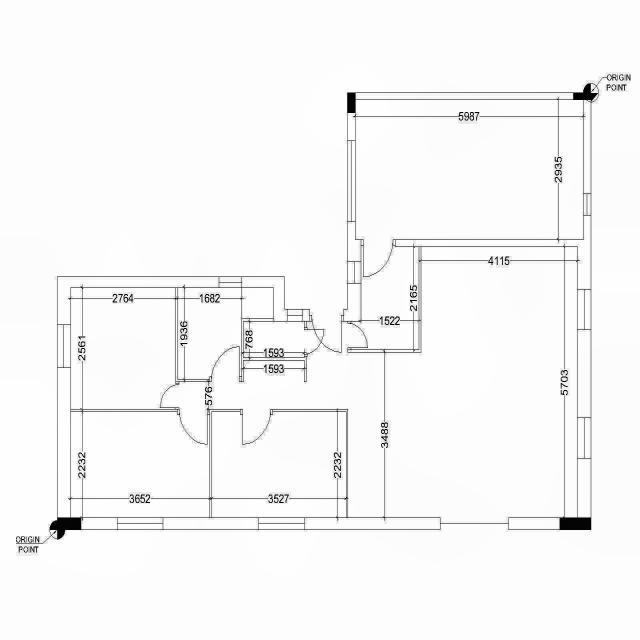Column: (560, 518, 592, 530), (57, 518, 81, 530), (348, 92, 356, 114), (573, 92, 591, 100)
Door: (360, 240, 396, 278), (309, 315, 344, 353), (177, 409, 210, 445), (209, 347, 242, 382), (240, 410, 273, 444), (304, 328, 325, 357), (348, 321, 368, 350), (160, 382, 180, 409)
Window: (348, 140, 356, 222), (117, 517, 163, 530), (577, 289, 591, 330), (258, 518, 305, 530), (577, 418, 591, 458), (58, 325, 70, 368), (347, 262, 361, 284), (219, 276, 242, 288), (287, 308, 303, 322), (583, 193, 591, 216)
